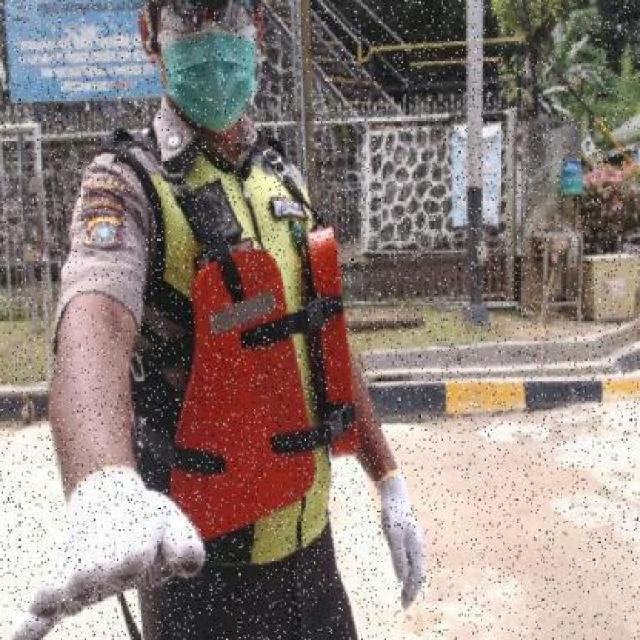Gloves: (10, 466, 212, 639), (363, 455, 434, 616)
Mask: (159, 28, 256, 128)
Protective Glasses: (154, 2, 258, 30)
Vest: (150, 222, 367, 542)
